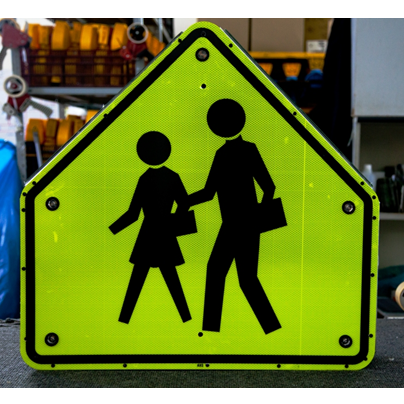slow: (16, 22, 381, 370)
